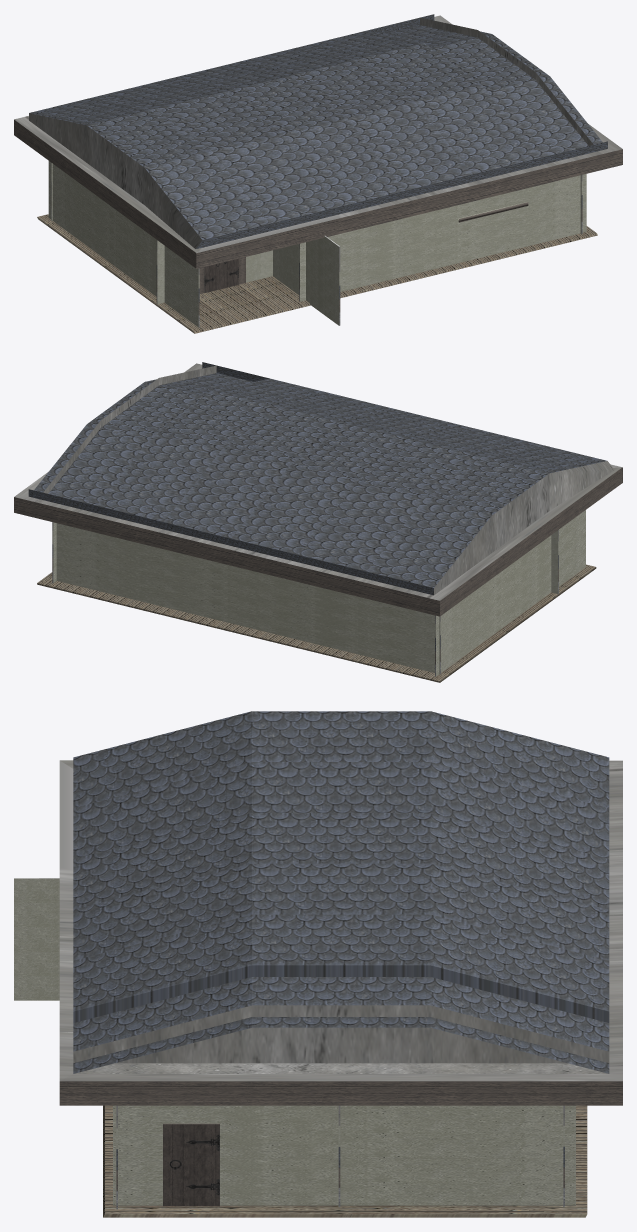
File: CLINIC (1).fbx
The picture shows the model from 3 angles, top to bottom: view 1: azimuth 30°, elevation 25°; view 2: azimuth 150°, elevation 25°; view 3: azimuth 270°, elevation 25°; orthographic projection. The views are drawn at different scales.
Parts seen in each view (by area): view 1: Plane.006; view 2: Plane.006; view 3: Plane.006.
Part boxes in pixels (x1,y1,x2,y2): Plane.006: [14, 14, 622, 333]; Plane.006: [14, 362, 622, 682]; Plane.006: [14, 711, 622, 1217].
Size of the model in its own units: 5959 by 1911 by 4777.
9 materials, 9 textured.
